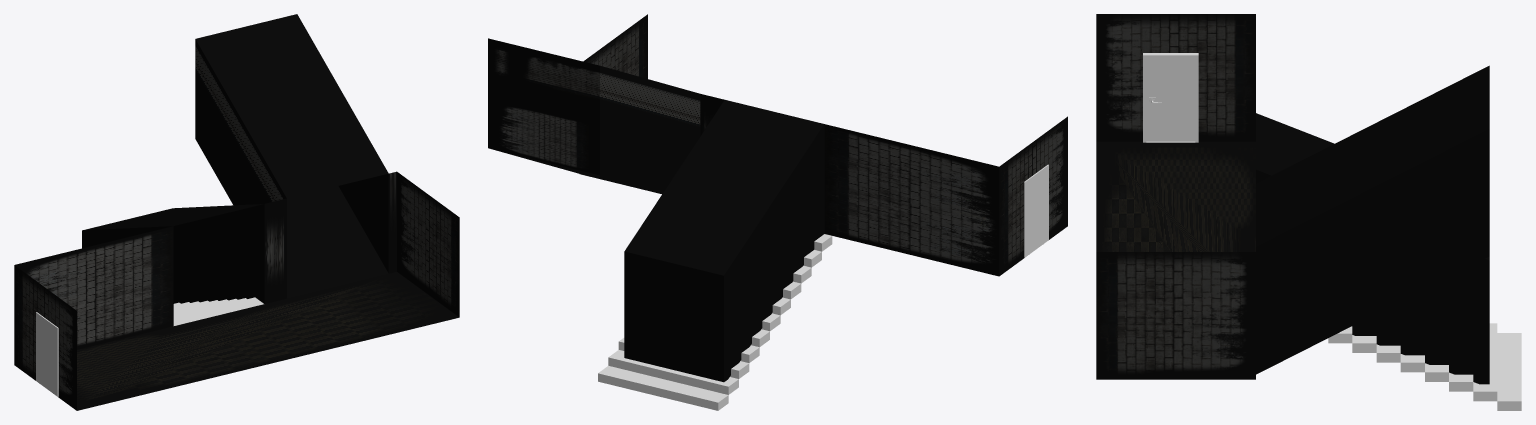
Rendered from pasilloA4.fbx.
The picture shows the model from 3 angles, left to right: view 1: azimuth 30°, elevation 25°; view 2: azimuth 150°, elevation 25°; view 3: azimuth 270°, elevation 25°; orthographic projection. The views are drawn at different scales.
Visible parts, largest first — view 1: Box019, Box120, StraightStair003; view 2: Box019, StraightStair003, Box120; view 3: Box019, StraightStair003, Box120.
Part boxes in pixels (box(x1,y1,x2,y2)): Box019: box(14, 14, 459, 410); Box120: box(36, 312, 58, 396); StraightStair003: box(173, 297, 263, 325); Box019: box(488, 14, 1067, 382); StraightStair003: box(598, 234, 832, 410); Box120: box(1024, 164, 1048, 257); Box019: box(1096, 14, 1489, 384); StraightStair003: box(1328, 323, 1521, 410); Box120: box(1143, 53, 1198, 142).
Size of the model in its own units: 664 by 457 by 500.
Materials: 1 (1 with a texture image).
